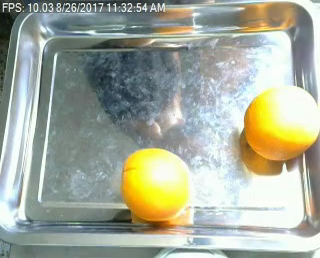Orange: (244, 84, 320, 160), (120, 146, 194, 220)
